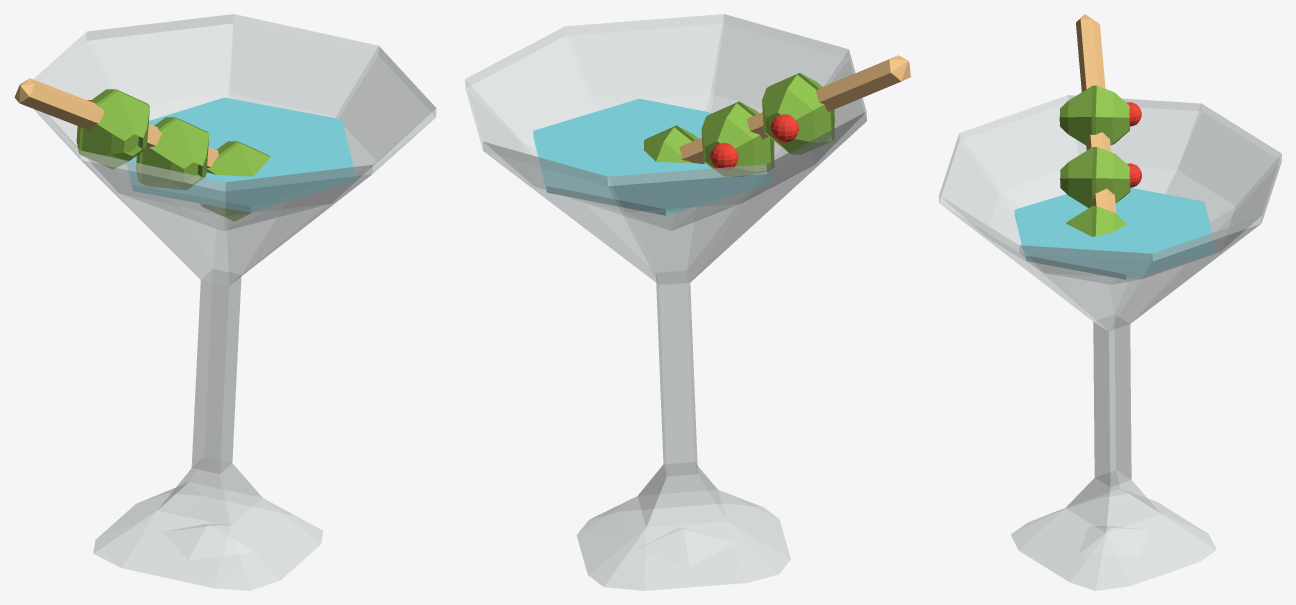
Rendered from martini.glb.
3 renders of one model, left to right at view 1: azimuth 30°, elevation 25°; view 2: azimuth 150°, elevation 25°; view 3: azimuth 270°, elevation 25°, orthographic. The views are drawn at different scales.
Parts seen in each view (by area): view 1: Node; view 2: Node; view 3: Node.
Boxes of the visible parts, x1,y1,x2,y2 form: Node: (14,14,436,590); Node: (465,14,910,590); Node: (939,14,1281,590).
Bounding box in the file's own units: 0.3222 × 0.4044 × 0.2801.
